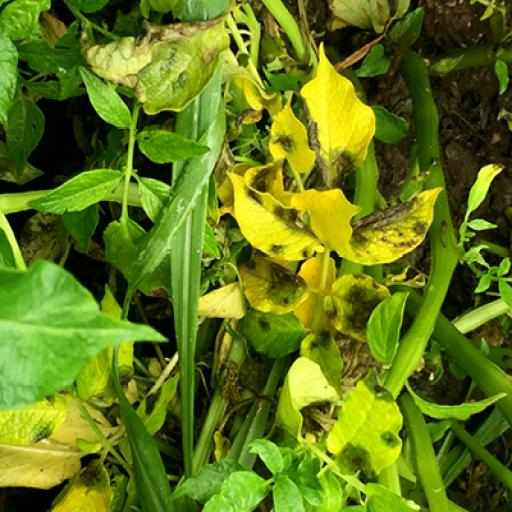Late Blight: (84, 8, 234, 120), (297, 34, 375, 196), (222, 168, 328, 266), (332, 181, 444, 269), (322, 378, 408, 482), (322, 271, 390, 348), (233, 250, 310, 314), (262, 106, 318, 188)
